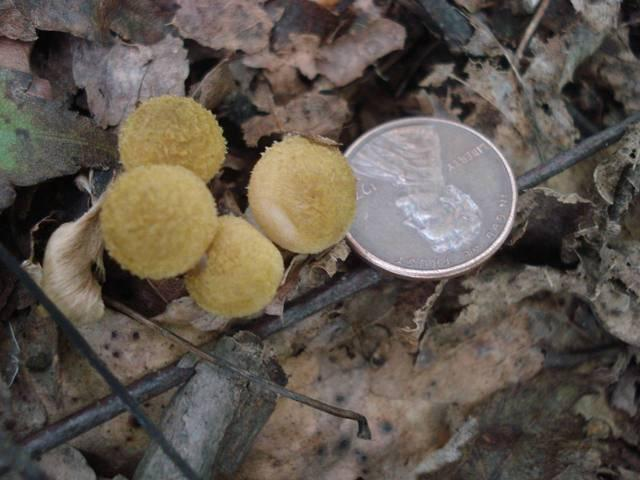edible_mushroom: (96, 96, 289, 312), (246, 132, 357, 255)
